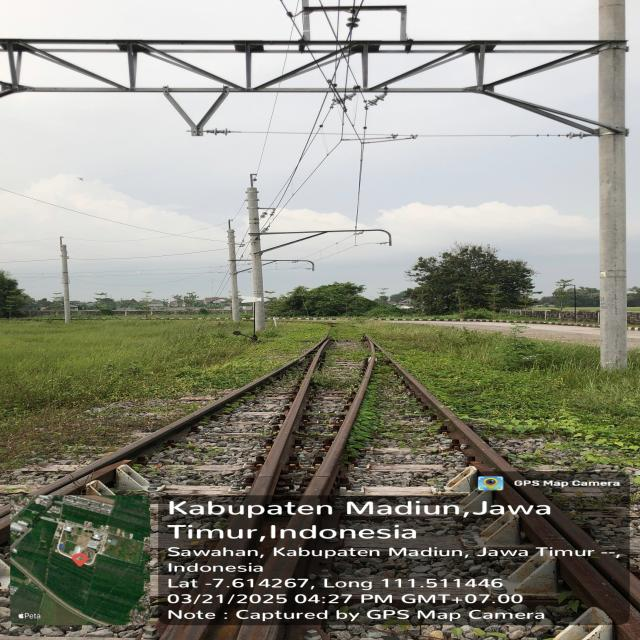rail-detection: (390, 358, 640, 640), (161, 337, 377, 640), (31, 335, 329, 495)
